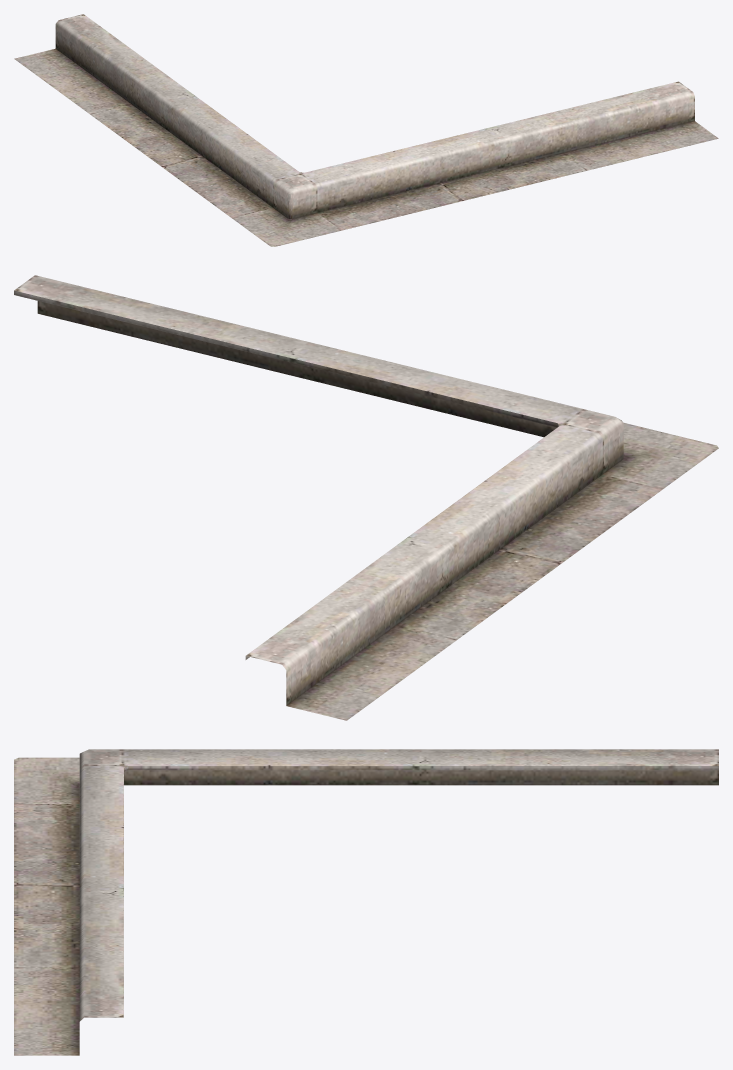
The model's file is pavement_corner_sharp_out_big003_modular_pavement_old_0_lev1.glb.
3 views of the same model, one above another, from view 1: azimuth 30°, elevation 25°; view 2: azimuth 150°, elevation 25°; view 3: azimuth 270°, elevation 25° (orthographic). The views are drawn at different scales.
Visible parts, largest first — view 1: pavement_corner_sharp_out_big003_modular_pavement_old_0_lev1; view 2: pavement_corner_sharp_out_big003_modular_pavement_old_0_lev1; view 3: pavement_corner_sharp_out_big003_modular_pavement_old_0_lev1.
Boxes of the visible parts, x1,y1,x2,y2 form: pavement_corner_sharp_out_big003_modular_pavement_old_0_lev1: (14, 14, 718, 246); pavement_corner_sharp_out_big003_modular_pavement_old_0_lev1: (14, 275, 718, 720); pavement_corner_sharp_out_big003_modular_pavement_old_0_lev1: (14, 749, 718, 1055).
Size of the model in its own units: 0.8116 by 0.0482 by 0.8116.
1 material, 1 textured.
